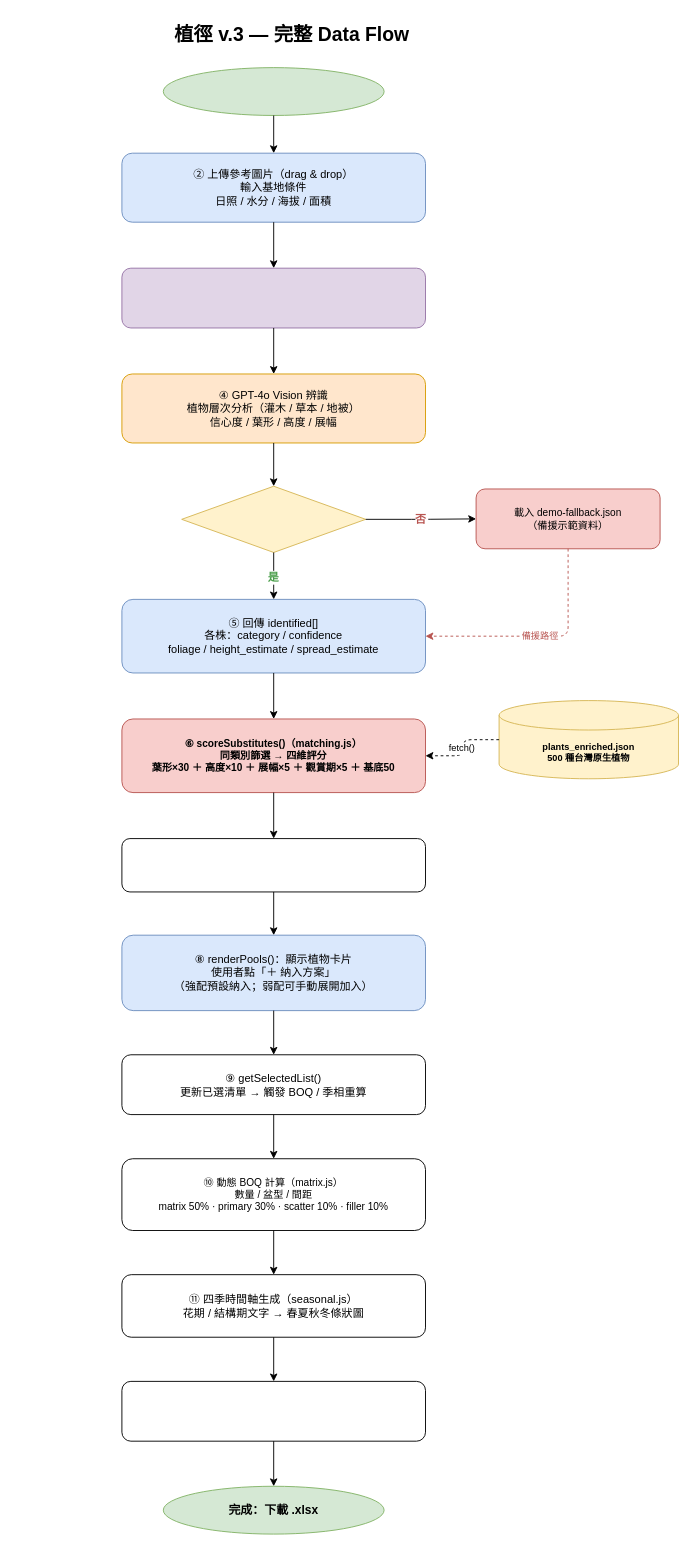
This 695x1550 diagram has some shape labels left out. The centre of each missing label's shape, as x and y in pixels:
"AI 回應成功？" belongs at [273,518].
"① 使用者開啟應用" belongs at [273,91].
"③ POST /api/analyze-image （Netlify Function → Node.js）" belongs at [273,297].
"⑦ pool（≥4★ 強配） + weak_pool（3★ 弱配）" belongs at [273,865].
"⑫ Excel 匯出（export.js + SheetJS） 植栽表 + BOQ + 評分細項" belongs at [273,1410].
